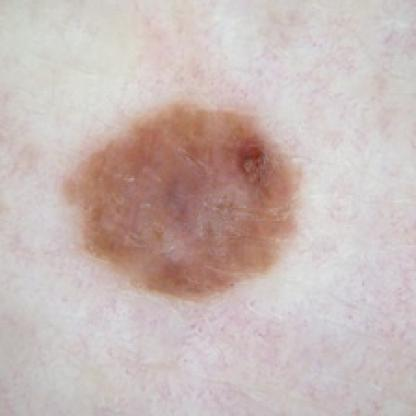malignant: (65, 93, 314, 301)
